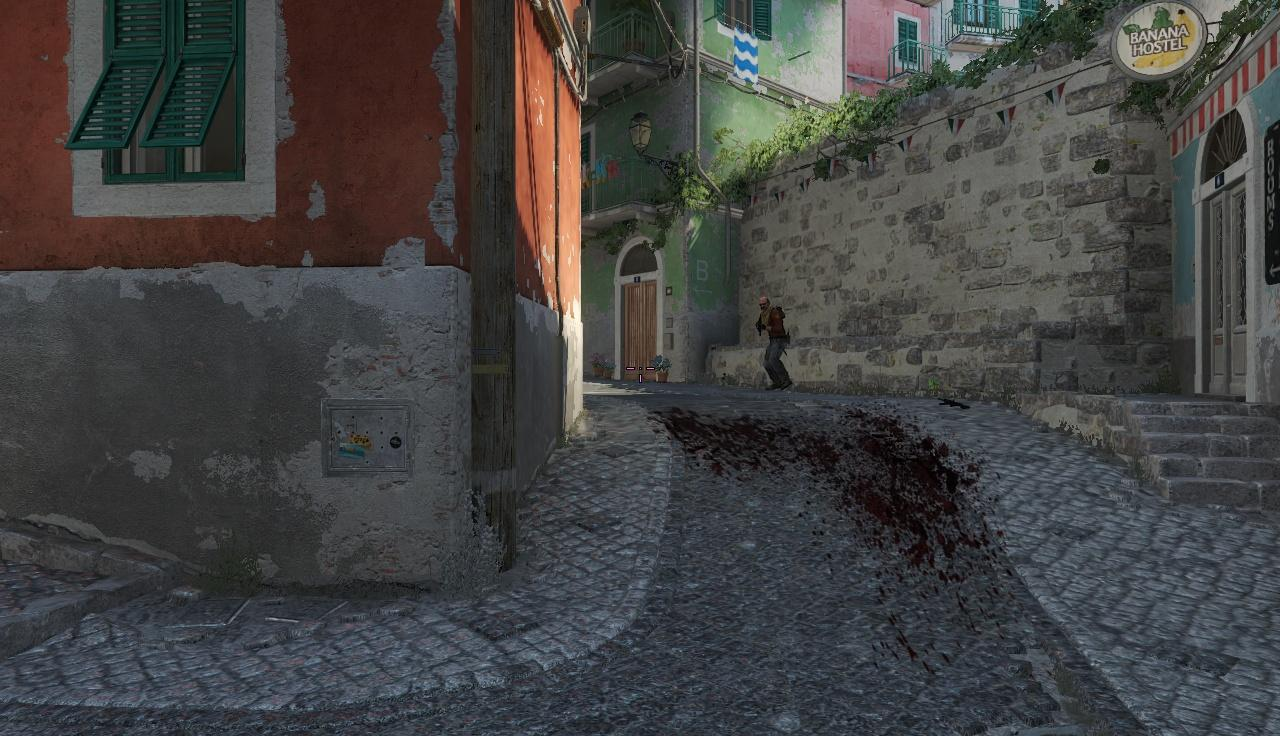tt: (754, 296, 788, 389)
tthead: (759, 297, 770, 310)
